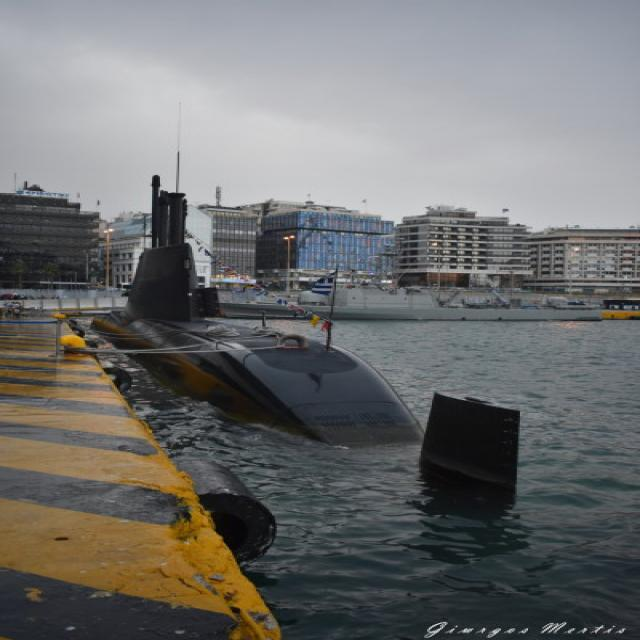submarine: (89, 244, 523, 500)
